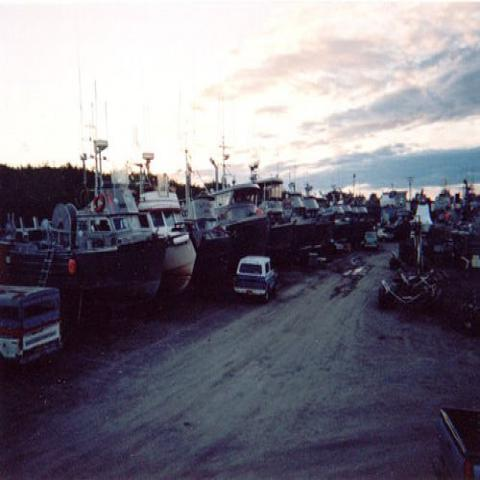car: (234, 256, 280, 302), (376, 229, 394, 240), (365, 232, 377, 247)
